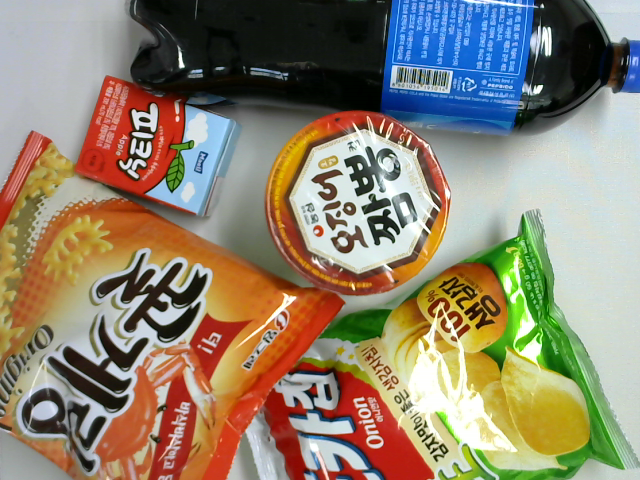Crabrang: (1, 130, 346, 480)
Ojjam: (264, 109, 451, 296)
Pepsi_Cola_1.5L: (129, 1, 639, 137)
Picnic_Apple: (74, 75, 242, 221)
Pocachip_Onion: (245, 209, 639, 480)
